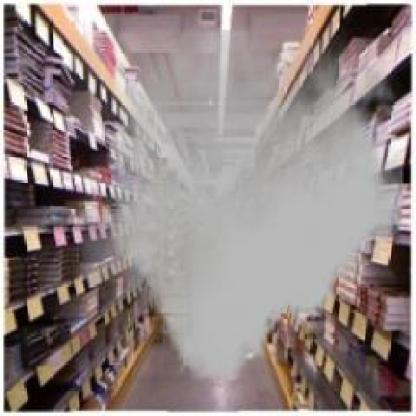Smoke: (69, 30, 408, 382)
